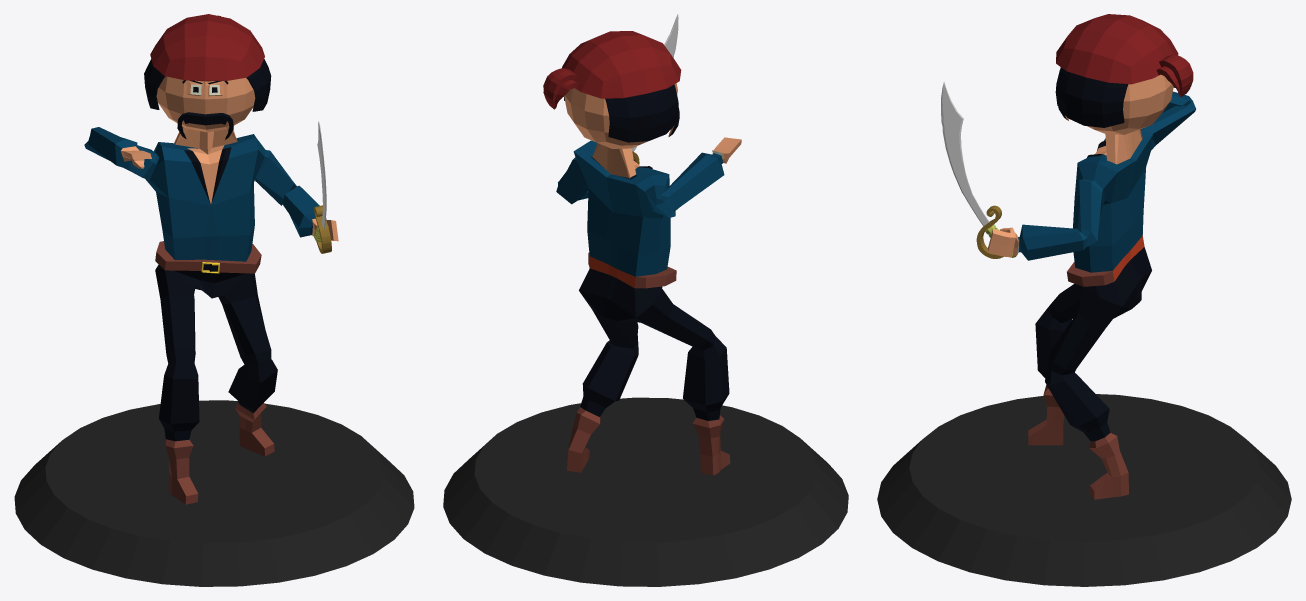
The model's file is Enemy.fbx.
3 renders of one model, left to right at view 1: azimuth 30°, elevation 25°; view 2: azimuth 150°, elevation 25°; view 3: azimuth 270°, elevation 25°, orthographic. The views are drawn at different scales.
Visible parts, largest first — view 1: Cilindro, Cubo, Schwert; view 2: Cilindro, Cubo; view 3: Cilindro, Cubo, Schwert.
Boxes of the visible parts, bbox=[...] form: Cilindro: bbox=[14, 400, 414, 586]; Cubo: bbox=[84, 14, 338, 504]; Schwert: bbox=[314, 121, 331, 253]; Cilindro: bbox=[443, 397, 848, 586]; Cubo: bbox=[543, 31, 741, 475]; Cilindro: bbox=[877, 394, 1291, 586]; Cubo: bbox=[988, 14, 1195, 499]; Schwert: bbox=[941, 81, 1016, 258].
Bounding box in the file's own units: 154 × 198 × 154.
